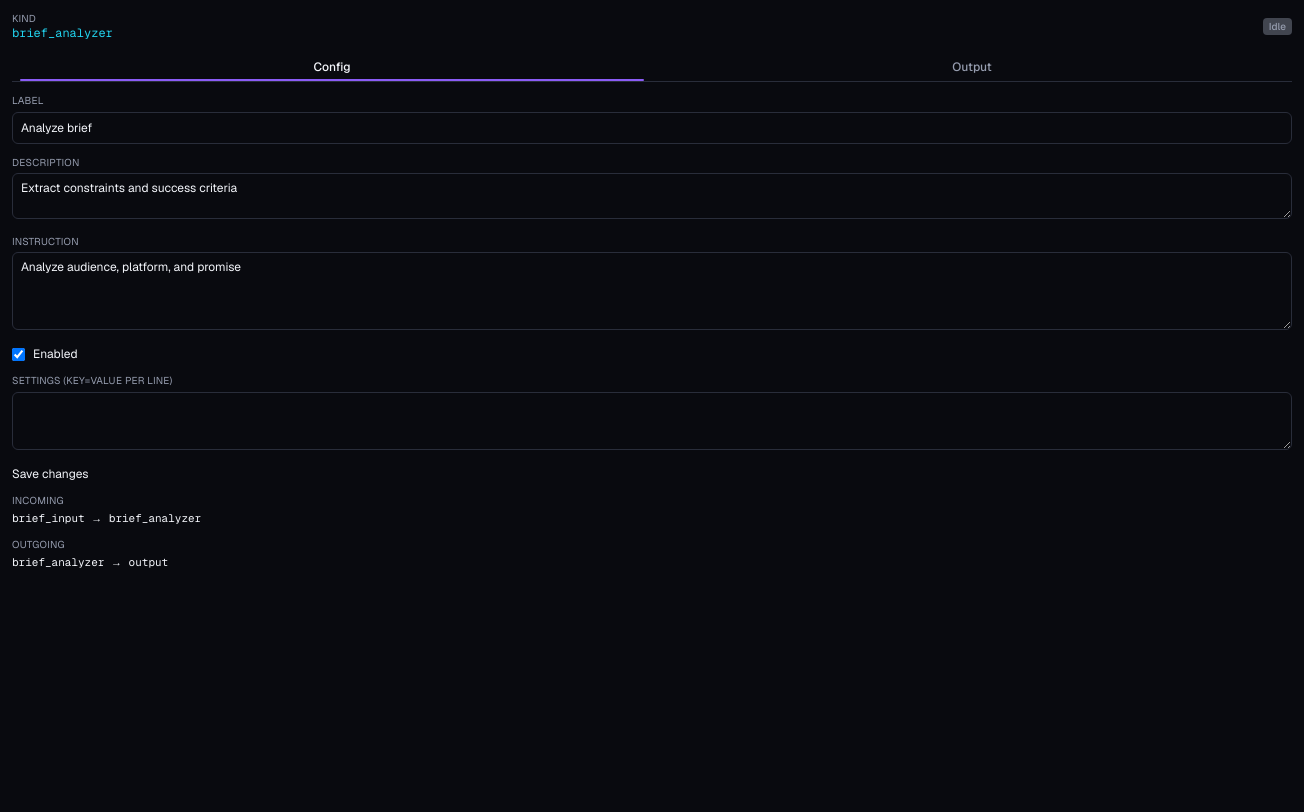
Test: inspector edits › blocks empty label on save
Clear the field with test id "inspector-label" at (652, 128), box x1=12 y1=112 x2=1292 y2=144
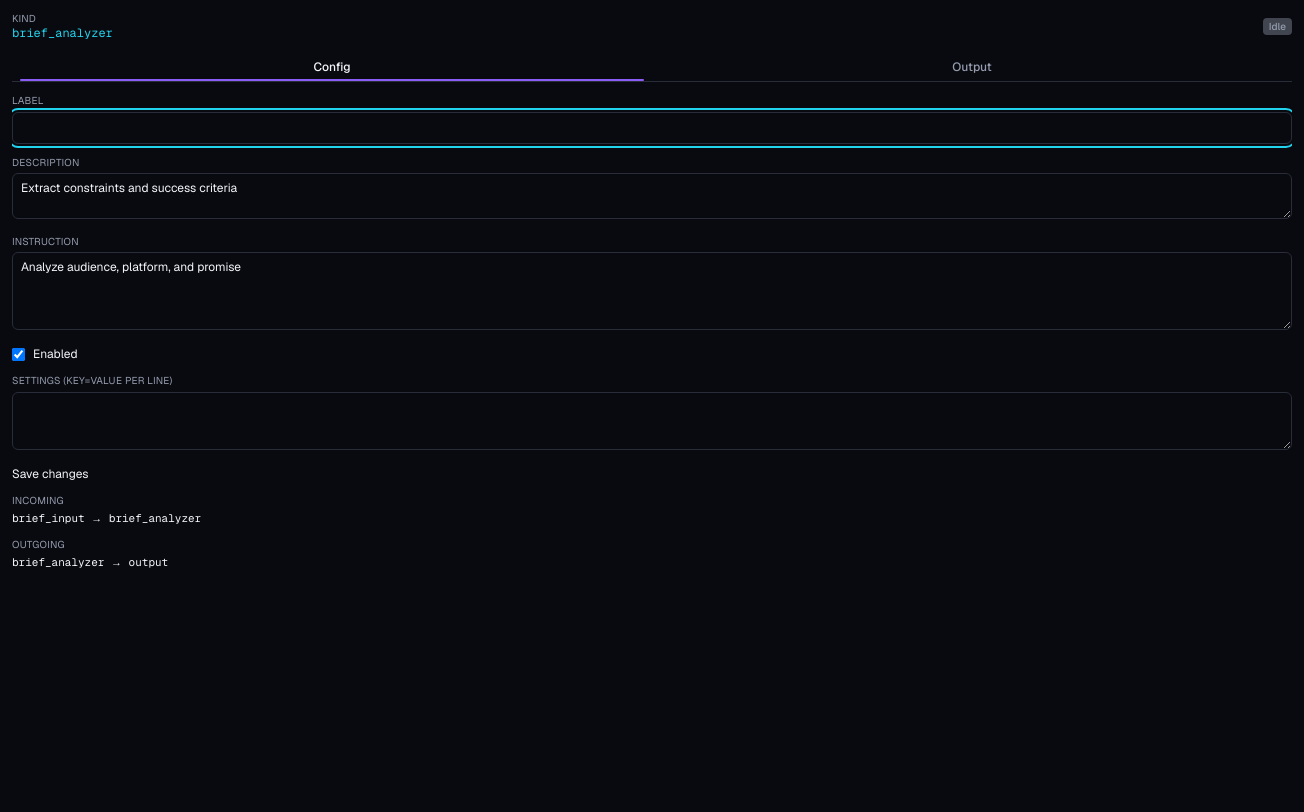
Click the button with test id "inspector-save" at (50, 474), box x1=12 y1=466 x2=88 y2=482
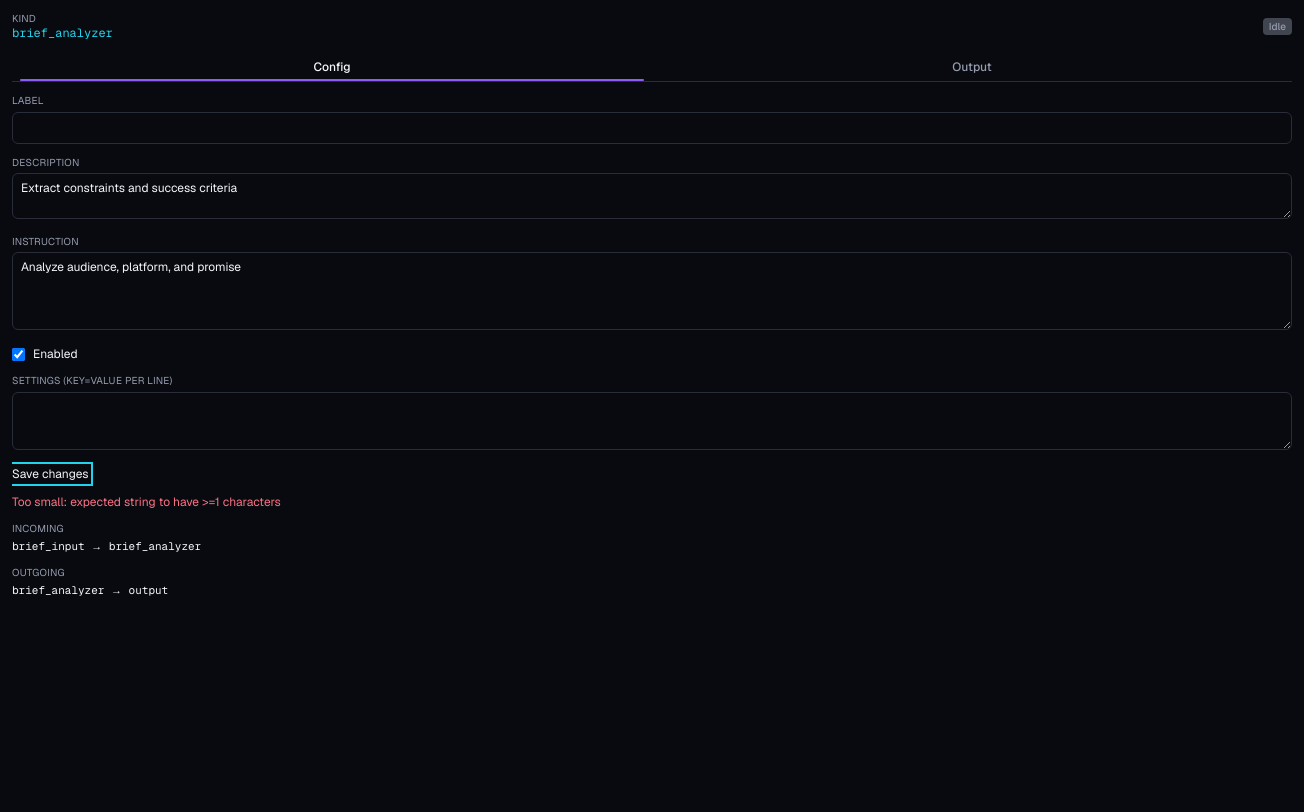
Result: the message "Too small: expected string to have >=1 characters" is shown at x1=12 y1=494 x2=281 y2=510
